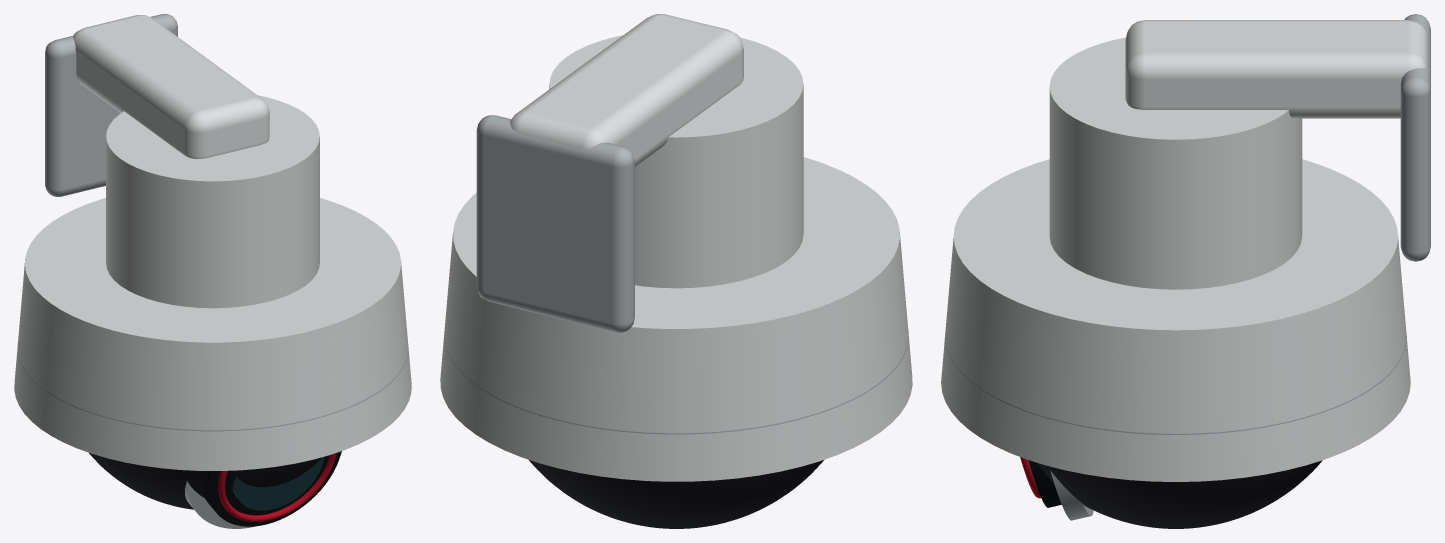
File: ptz.glb
The picture shows the model from 3 angles, left to right: view 1: azimuth 30°, elevation 25°; view 2: azimuth 150°, elevation 25°; view 3: azimuth 270°, elevation 25°; orthographic projection. The views are drawn at different scales.
Parts seen in each view (by area): view 1: Housing, Lens; view 2: Housing; view 3: Housing, Lens.
Part boxes in pixels (box(x1,y1,x2,y2)): Housing: box(14, 14, 411, 509); Lens: box(184, 451, 342, 528); Housing: box(440, 14, 912, 528); Housing: box(941, 14, 1430, 528); Lens: box(1020, 457, 1093, 520).
Size of the model in its own units: 1.86 by 2.07 by 1.94.
